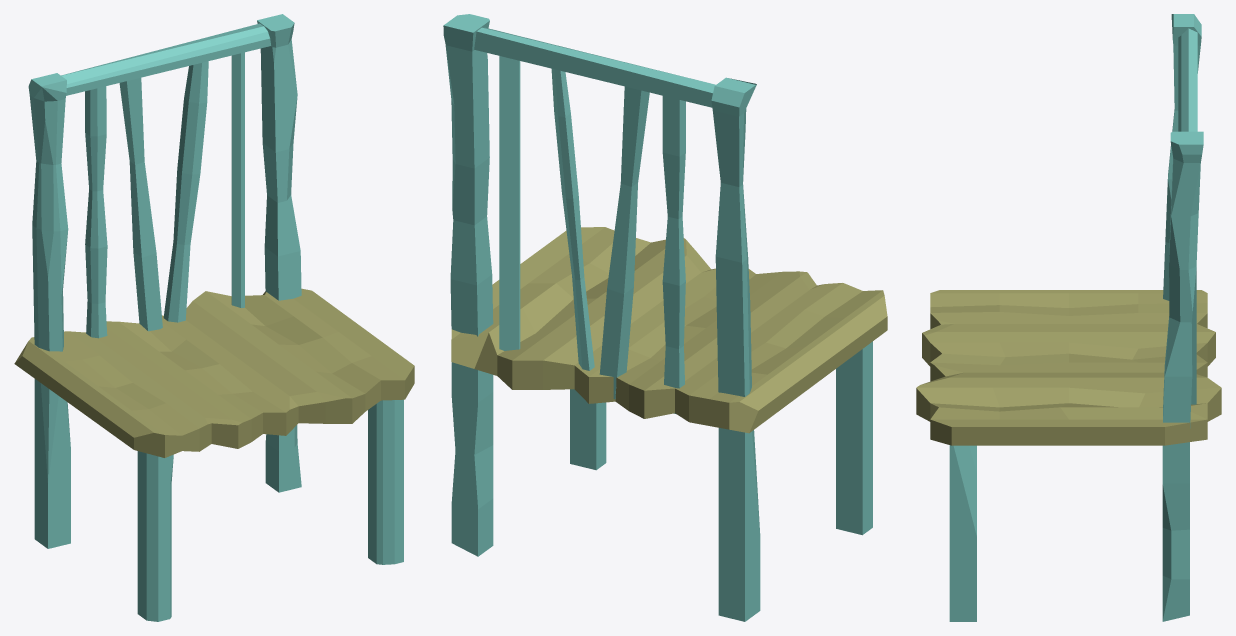
The model's file is Chair_3_Blue.fbx.
The picture shows the model from 3 angles, left to right: view 1: azimuth 30°, elevation 25°; view 2: azimuth 150°, elevation 25°; view 3: azimuth 270°, elevation 25°; orthographic projection. The views are drawn at different scales.
Parts seen in each view (by area): view 1: Cube.244, Cube.240, Cube.241, Cube.243, Cube.242, Cube.248, Cube.249, Cube.246, Cube.245, Cube.247; view 2: Cube.244, Cube.241, Cube.240, Cube.249, Cube.242, Cube.247, Cube.246, Cube.245, Cube.248, Cube.243; view 3: Cube.244, Cube.241, Cube.243, Cube.245, Cube.240, Cube.247.
Boxes of the visible parts, left/top/right/bottom form: Cube.244: left=14, top=288, right=414, bottom=457; Cube.240: left=28, top=73, right=70, bottom=548; Cube.241: left=257, top=14, right=301, bottom=492; Cube.243: left=368, top=399, right=403, bottom=564; Cube.242: left=137, top=451, right=173, bottom=621; Cube.248: left=163, top=61, right=208, bottom=322; Cube.249: left=119, top=77, right=162, bottom=331; Cube.246: left=85, top=86, right=107, bottom=338; Cube.245: left=61, top=23, right=270, bottom=95; Cube.247: left=231, top=52, right=244, bottom=307; Cube.244: left=451, top=227, right=887, bottom=433; Cube.241: left=443, top=14, right=493, bottom=556; Cube.240: left=711, top=77, right=760, bottom=621; Cube.249: left=599, top=86, right=649, bottom=399; Cube.242: left=836, top=341, right=872, bottom=535; Cube.247: left=499, top=56, right=520, bottom=350; Cube.246: left=662, top=96, right=685, bottom=414; Cube.245: left=474, top=27, right=715, bottom=107; Cube.248: left=551, top=68, right=594, bottom=370; Cube.243: left=570, top=389, right=606, bottom=470; Cube.244: left=916, top=290, right=1221, bottom=445; Cube.241: left=1162, top=131, right=1203, bottom=621; Cube.243: left=949, top=445, right=976, bottom=621; Cube.245: left=1178, top=28, right=1197, bottom=131; Cube.240: left=1163, top=14, right=1201, bottom=300; Cube.247: left=1191, top=267, right=1196, bottom=404.
Bounding box in the file's own units: 274 × 433 × 251.
